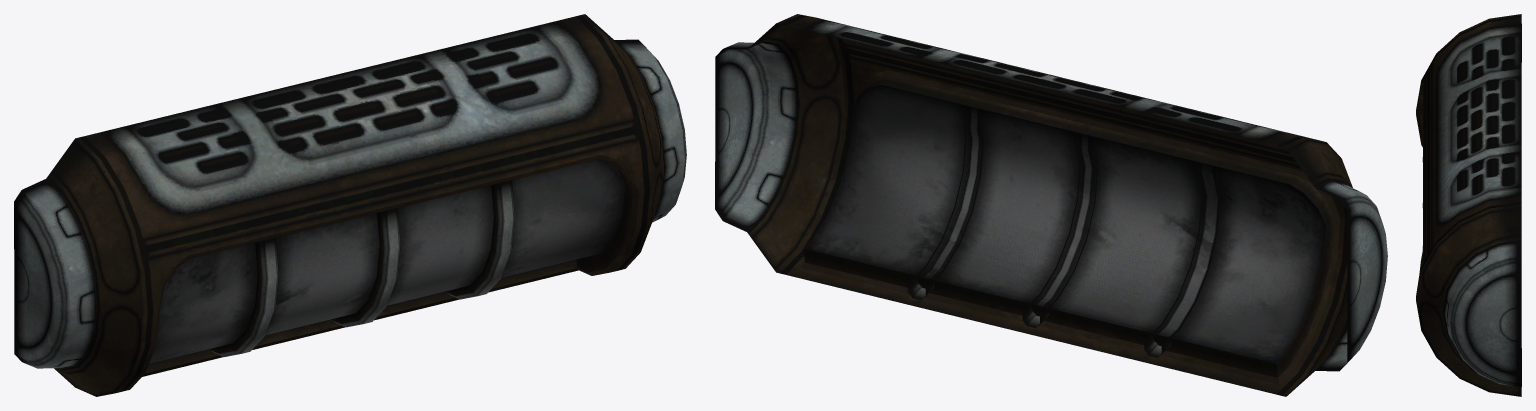
The model's file is lamp_bed_curie_nobutton.dae.
3 views of the same model, side by side, from view 1: azimuth 30°, elevation 25°; view 2: azimuth 150°, elevation 25°; view 3: azimuth 270°, elevation 25° (orthographic). The views are drawn at different scales.
Visible parts, largest first — view 1: polySurface3; view 2: polySurface3; view 3: polySurface3.
Part boxes in pixels (x1,y1,x2,y2): polySurface3: [14, 14, 686, 396]; polySurface3: [715, 14, 1387, 396]; polySurface3: [1416, 14, 1521, 396].
Bounding box in the file's own units: 0.3718 × 0.14 × 0.0701.
